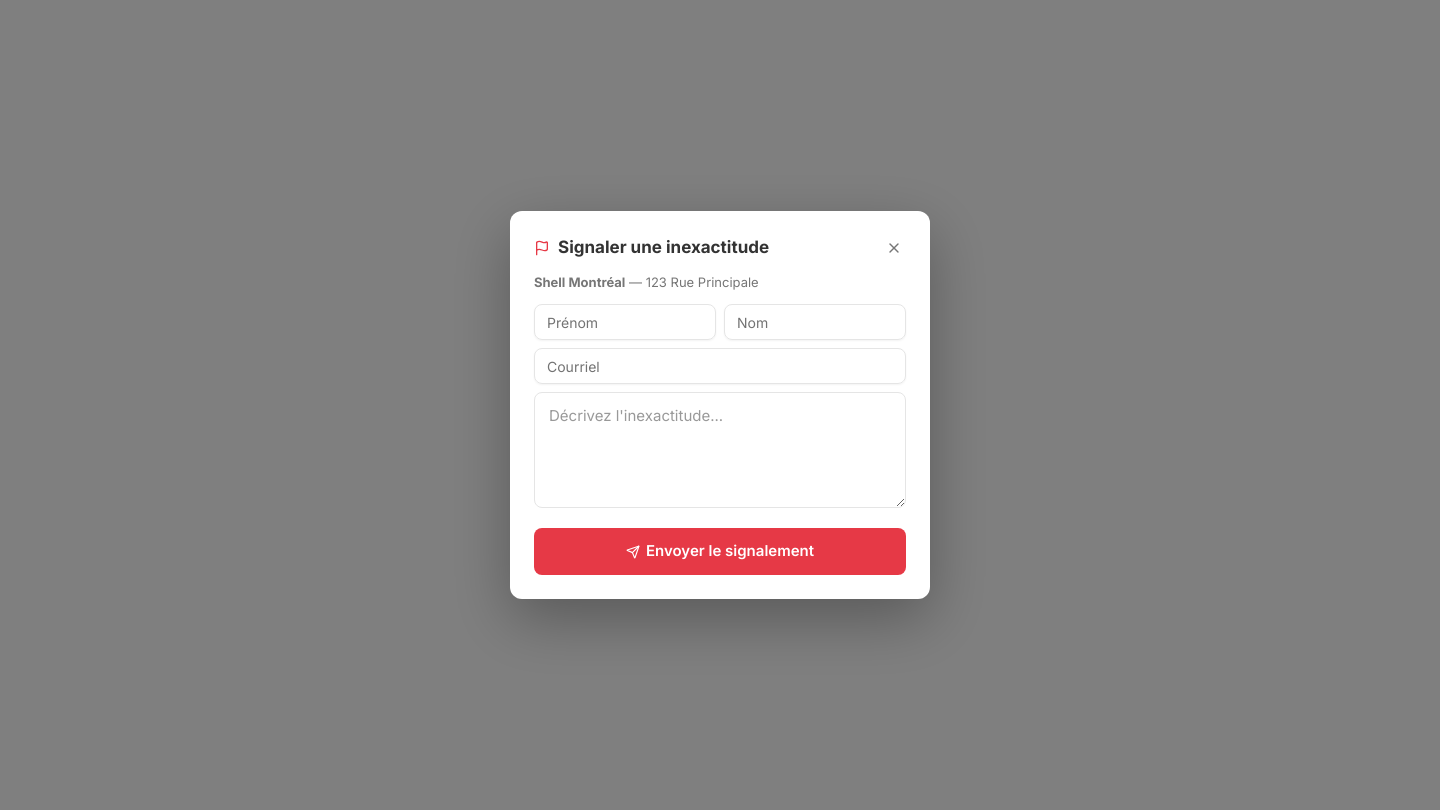
Test: ReportModal › affiche le message de succès après un envoi réussi
This screenshot has width=1440, height=810.
Type "Jean" into the field with placeholder "Prénom" at (625, 322), box [534, 304, 716, 340]
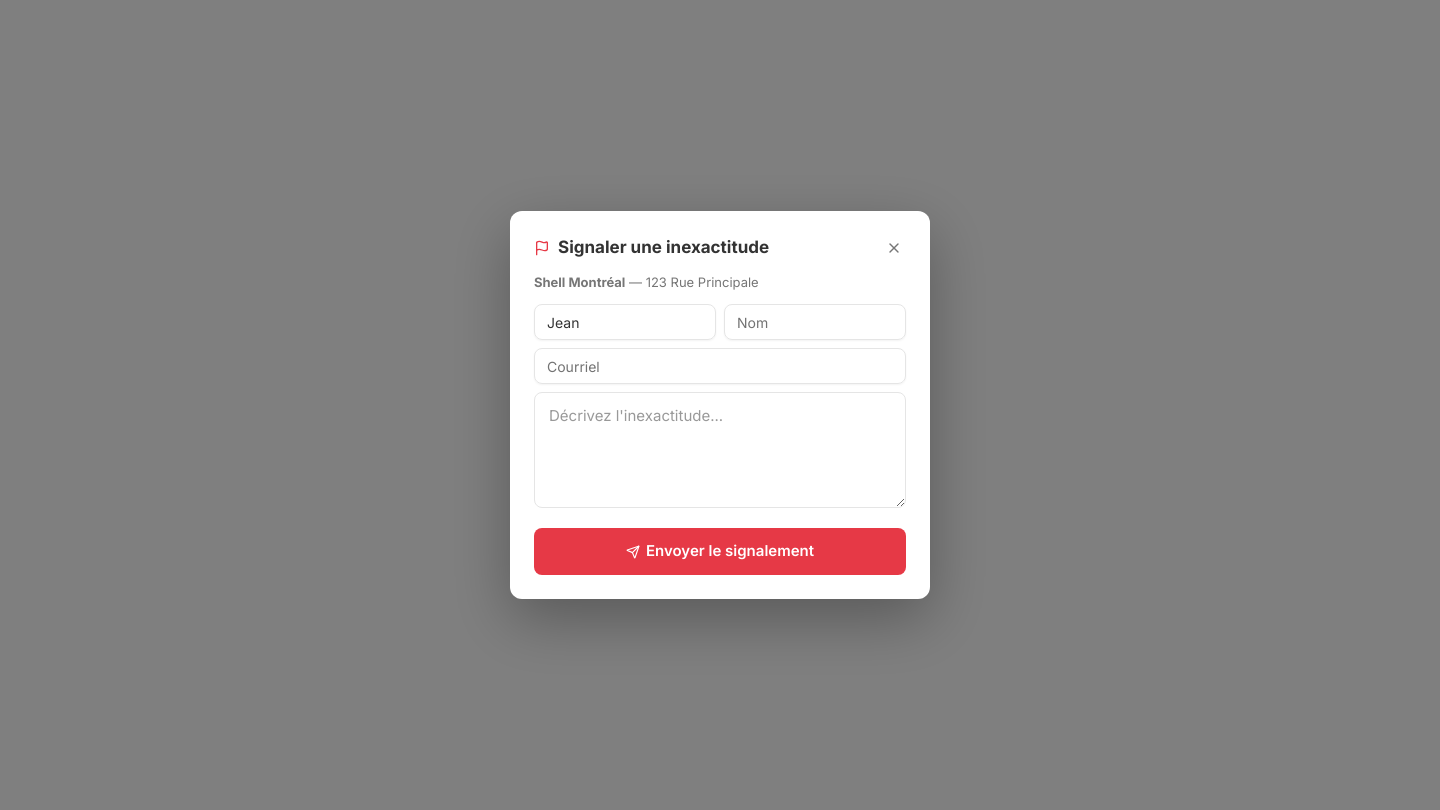
Type "Tremblay" into the field with placeholder "Nom" at (815, 322), box [724, 304, 906, 340]
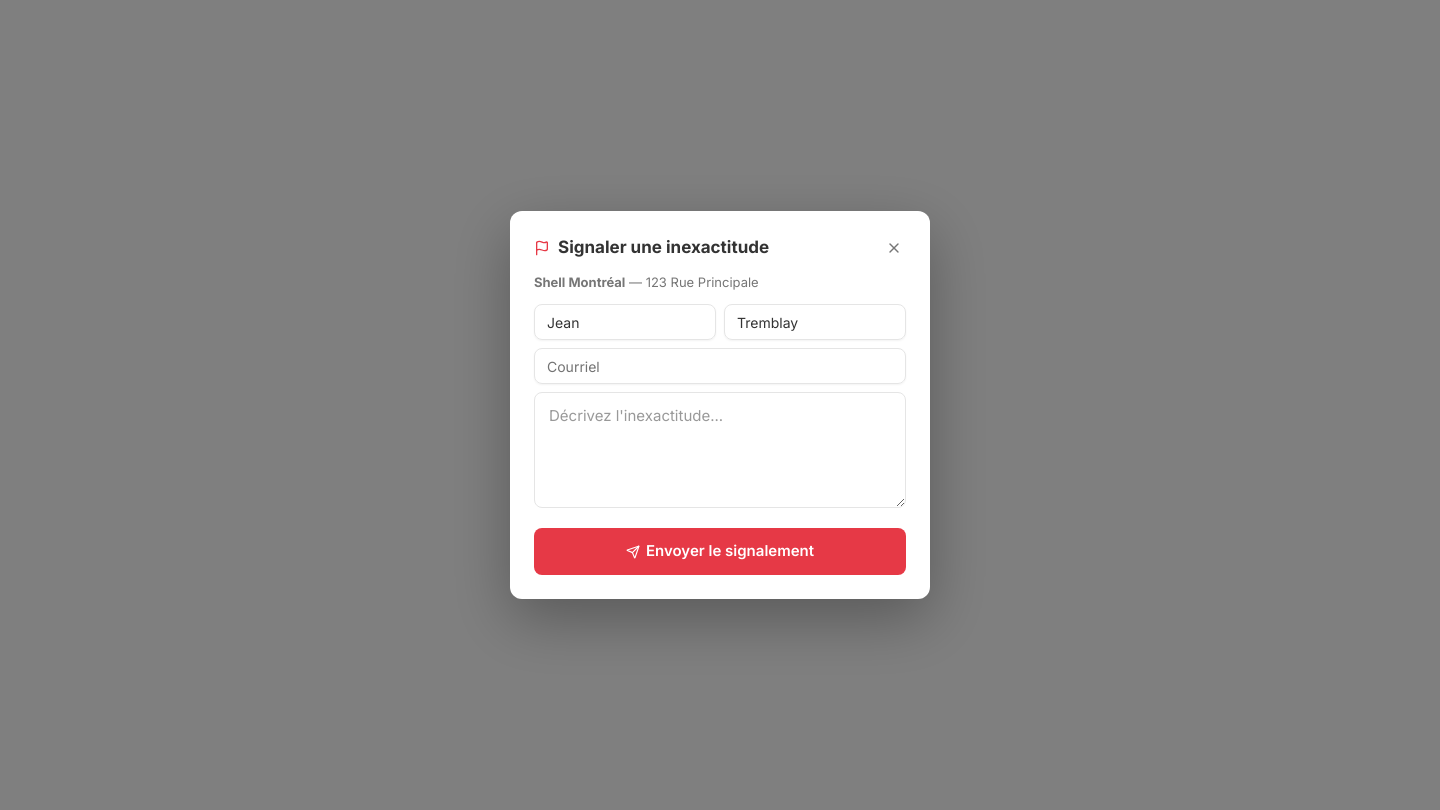
Type "jean@example.com" into the field with placeholder "Courriel" at (720, 366), box [534, 348, 906, 384]
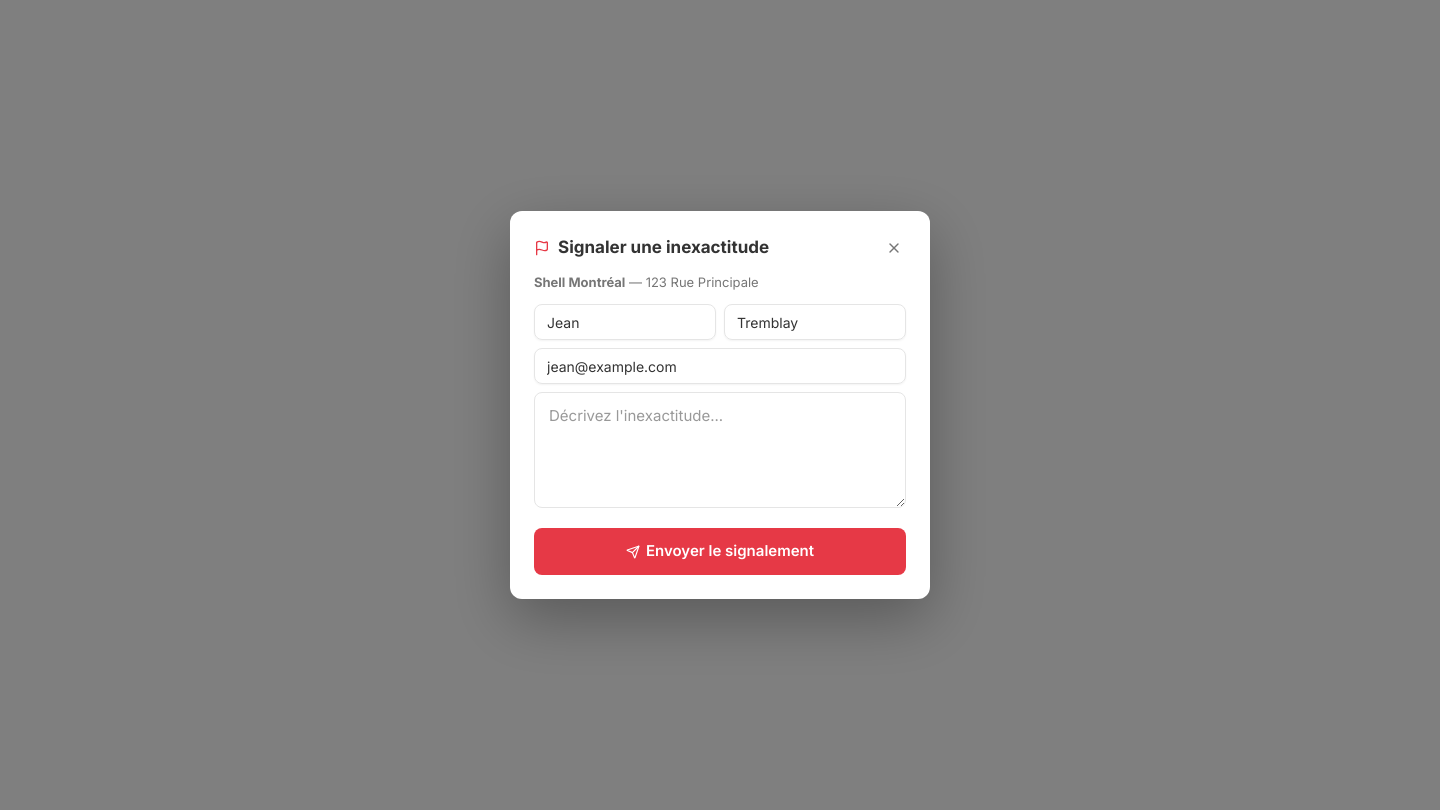
Type "Le prix affiché est incorrect depuis 2 jours" into the text box with placeholder "Décrivez l'inexactitude..." at (720, 450), box [534, 392, 906, 508]
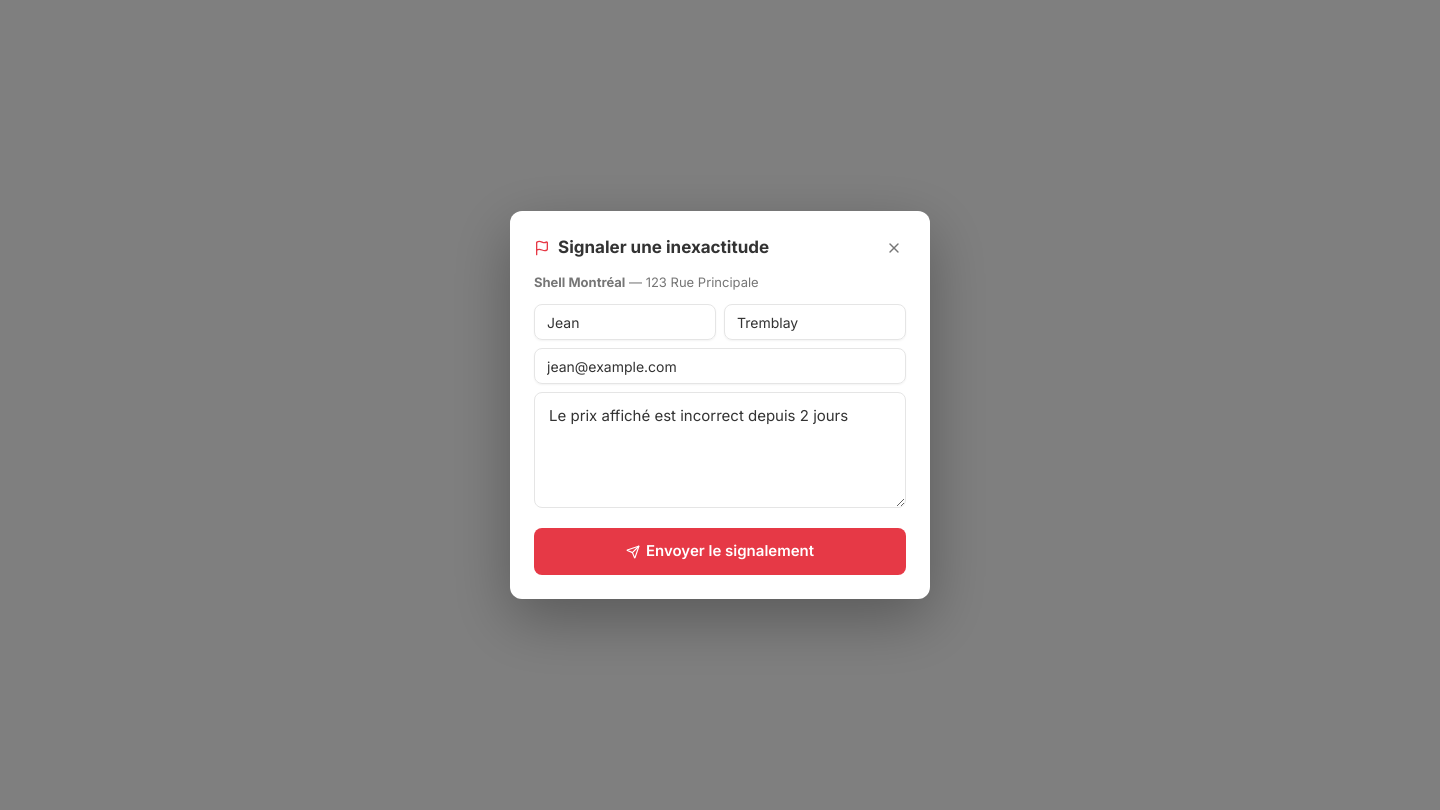
Click the button "Envoyer le signalement" at (720, 552), box [534, 528, 906, 575]
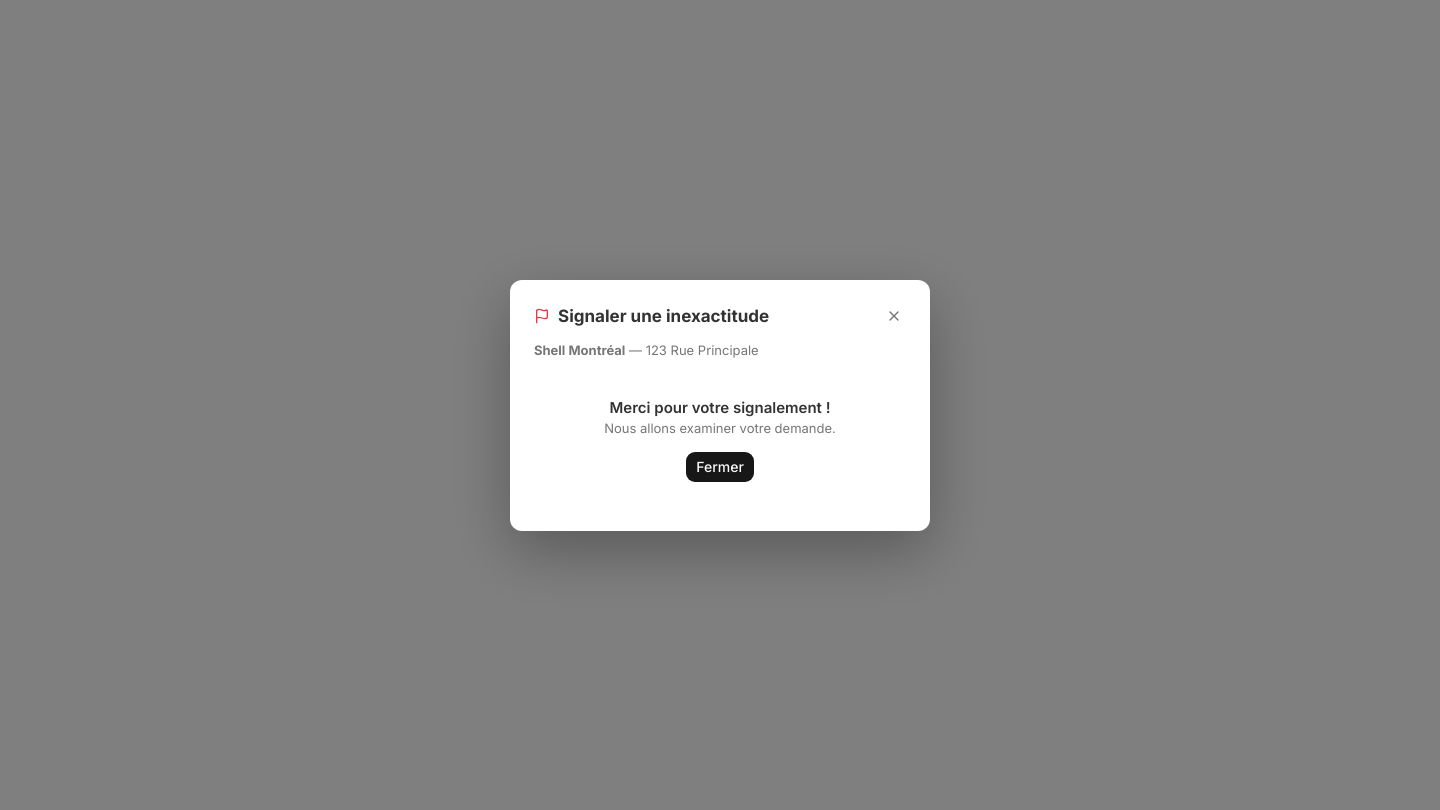
Result: the text "Merci pour votre signalement !" is shown at [610, 398, 830, 416]
